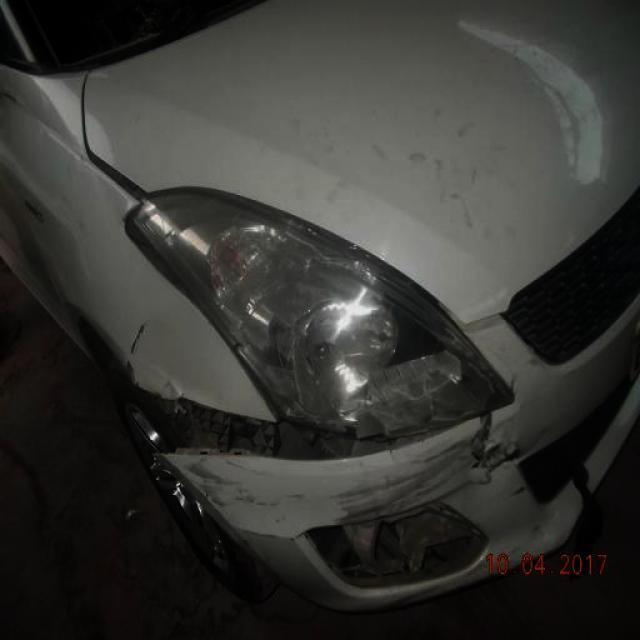car damage: (266, 258, 508, 431), (136, 382, 433, 466), (300, 500, 495, 599), (335, 439, 472, 519), (181, 461, 306, 511), (469, 412, 531, 482), (125, 319, 154, 355)
